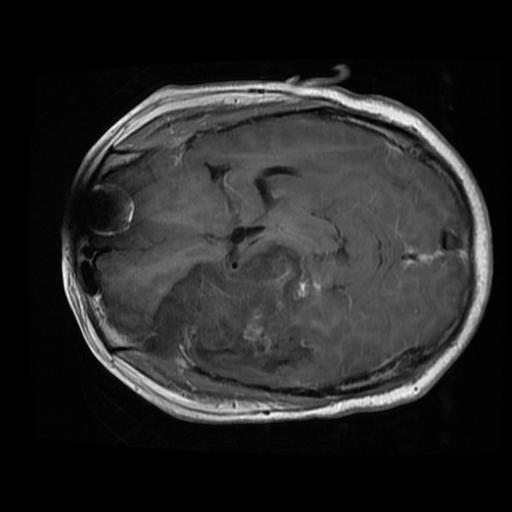glioma: (143, 245, 311, 373)
